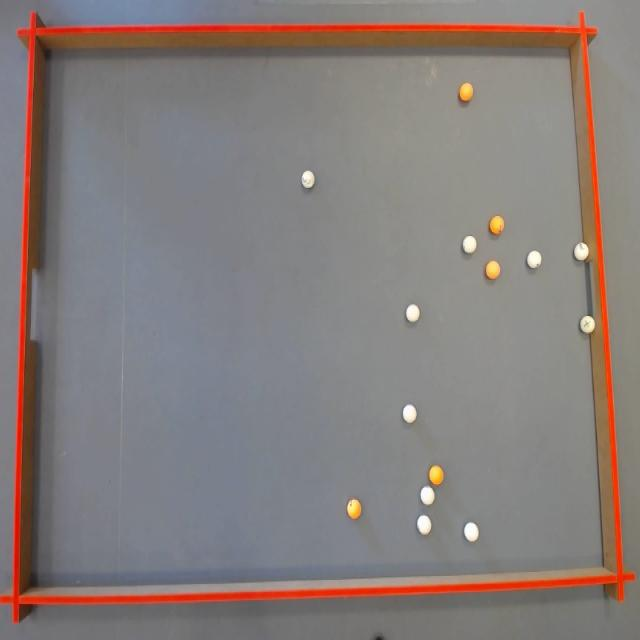orange_ball: (347, 499, 361, 519), (489, 216, 504, 234), (459, 82, 473, 101), (429, 466, 443, 485), (486, 261, 500, 279)
white_ball: (574, 242, 589, 261), (580, 315, 595, 334), (464, 522, 478, 542), (417, 515, 431, 535), (402, 405, 417, 423), (527, 250, 542, 268), (420, 486, 434, 505), (462, 236, 477, 253), (301, 170, 315, 188), (406, 304, 420, 322)
